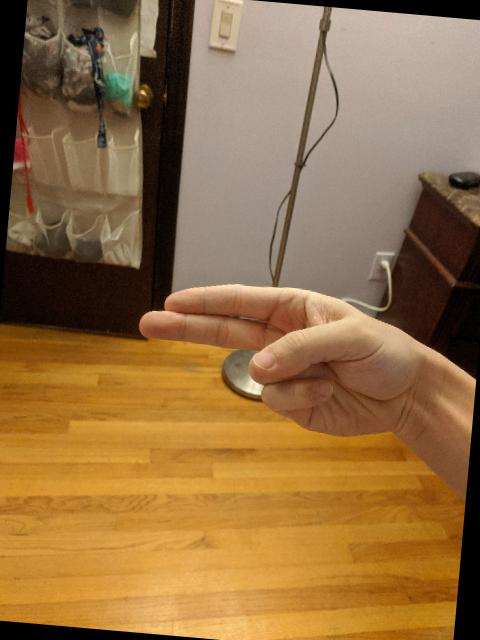H: (123, 268, 419, 450)
